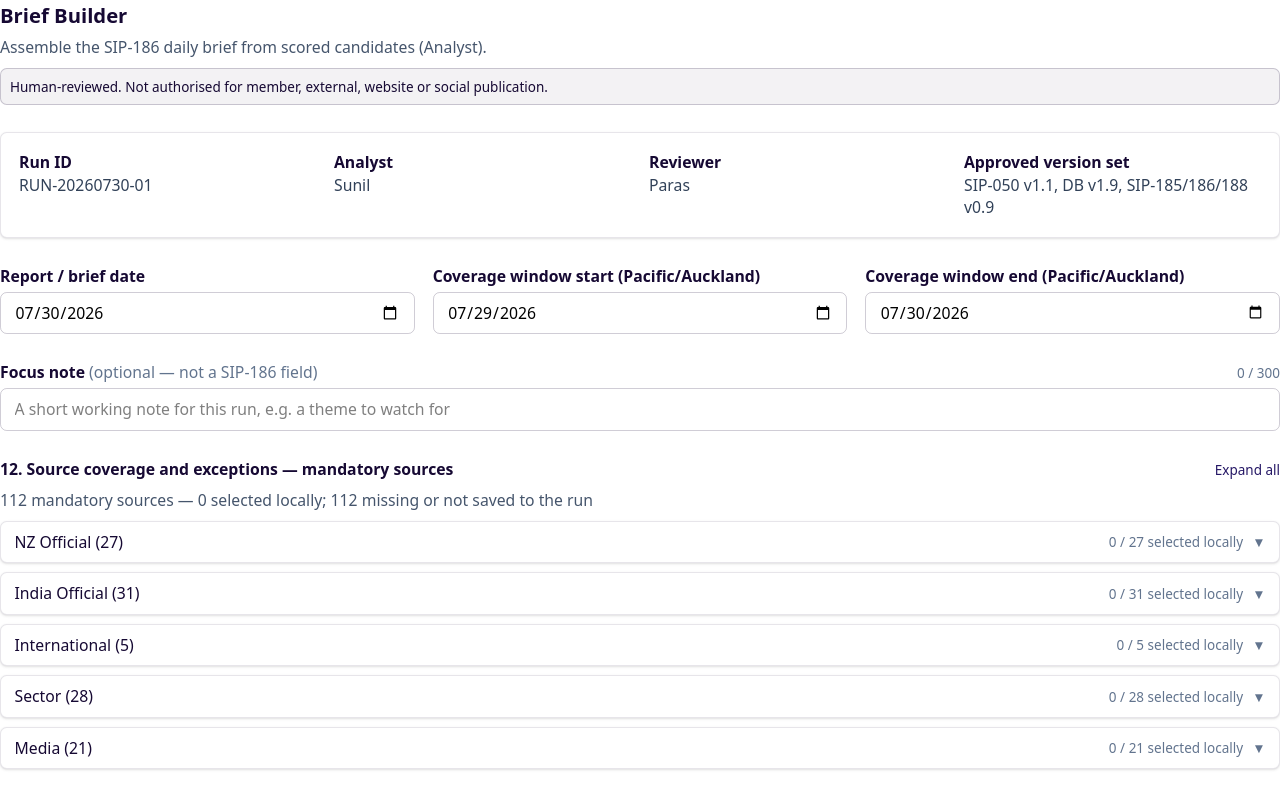
Test: BriefBuilderScreen candidate source › refuses unapproved fallback methods and does not POST
The width and height of the screenshot is (1280, 786).
Step 1. Click the button "NZ Official (27) 0 / 27 selected locally ▼" → click(53, 542), box x1=1 y1=522 x2=1279 y2=562
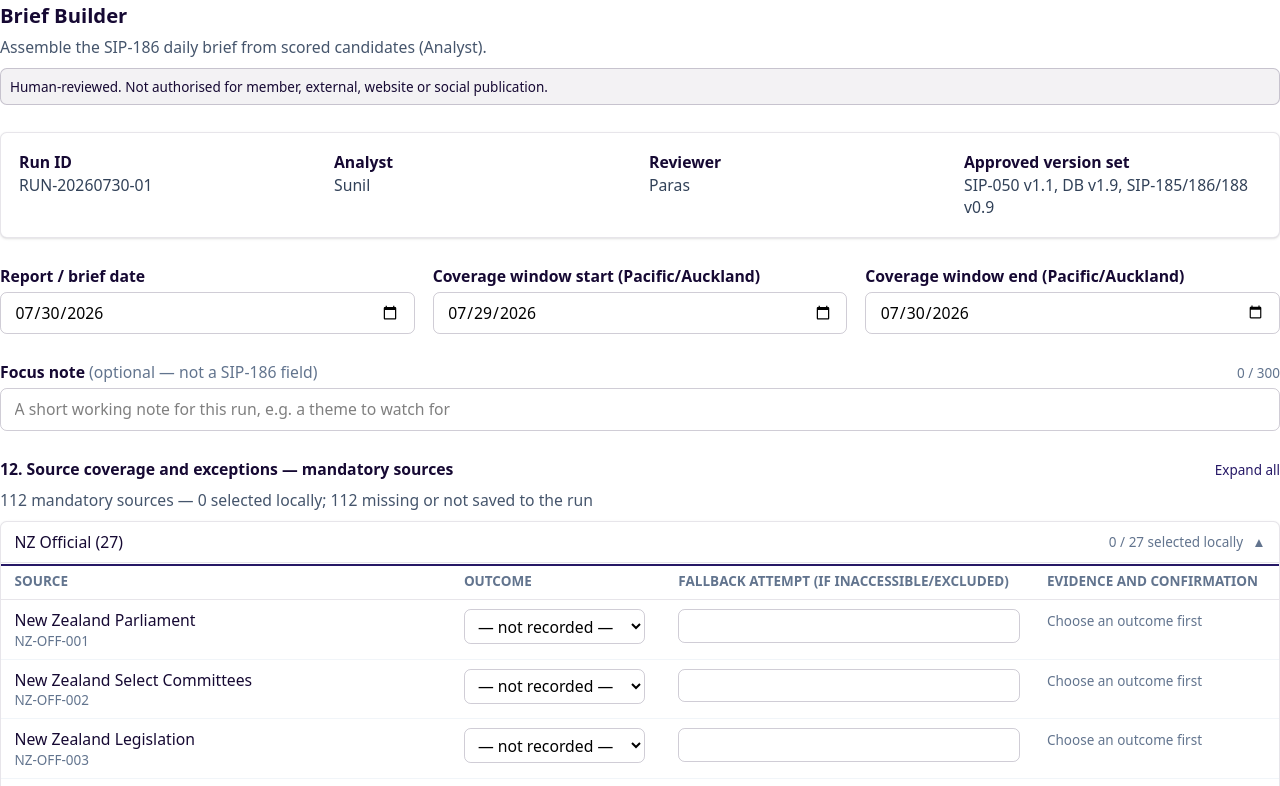
Step 2. Select "Inaccessible" in the dropdown in the row of "New Zealand Parliament" → (554, 627), box x1=464 y1=610 x2=645 y2=644
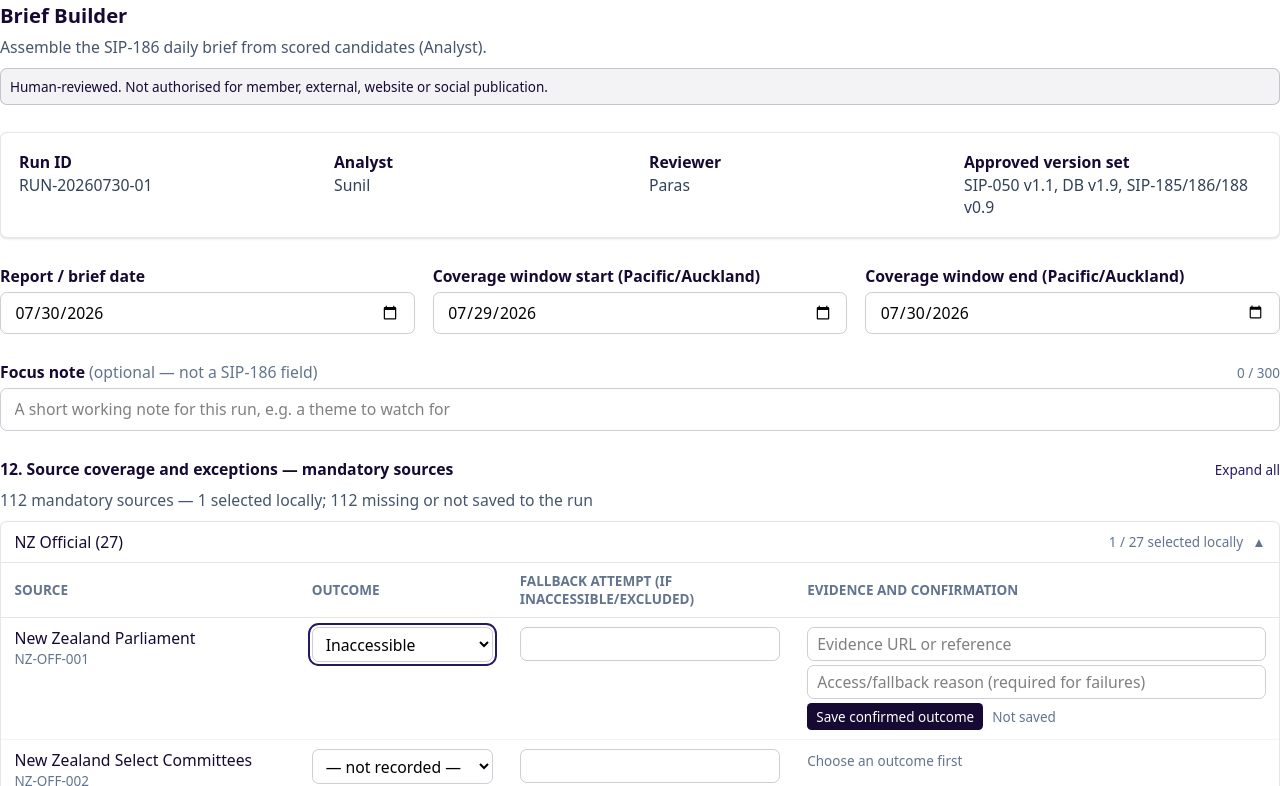
Step 3. Type "internal://test" into the field with placeholder "Evidence URL or reference" → (1036, 644), box x1=807 y1=628 x2=1266 y2=661
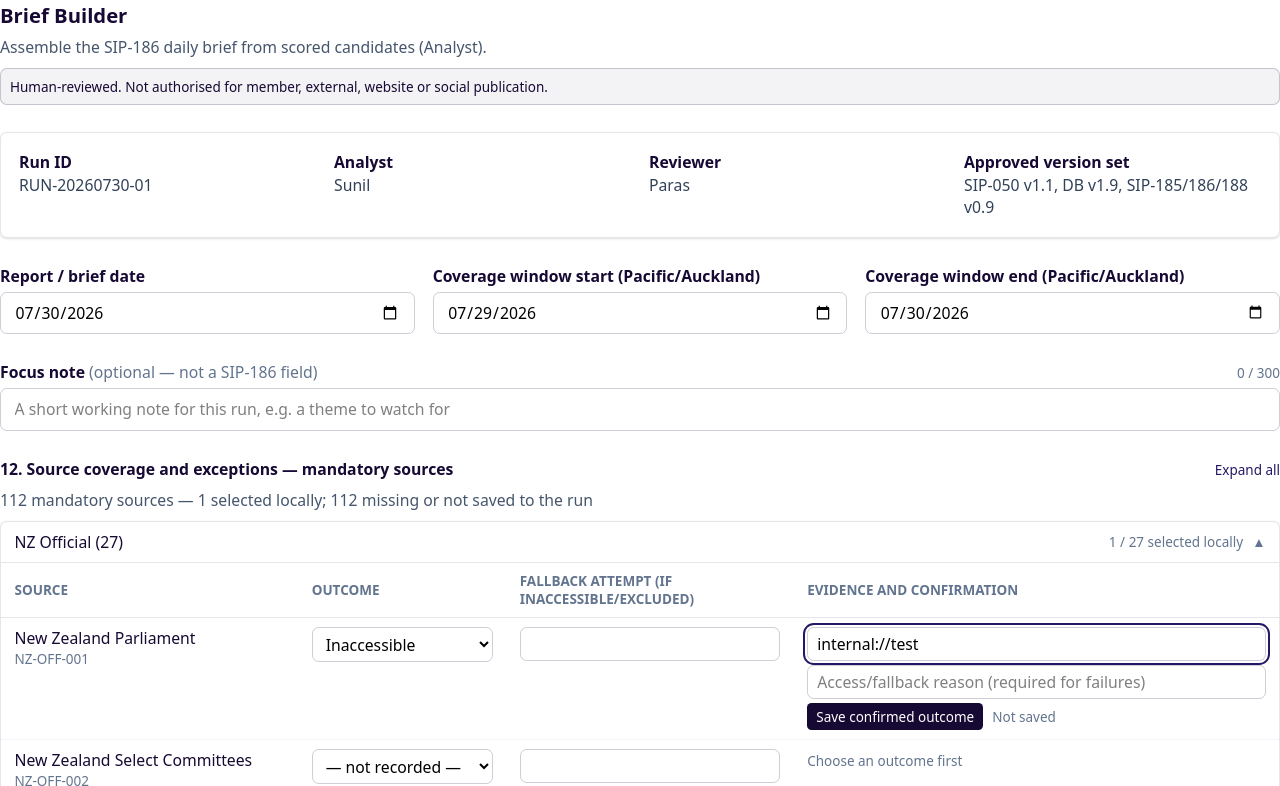
Step 4. Type "Request timed out" into the field with placeholder "Access/fallback reason (required for failures)" → (1036, 682), box x1=807 y1=666 x2=1266 y2=699
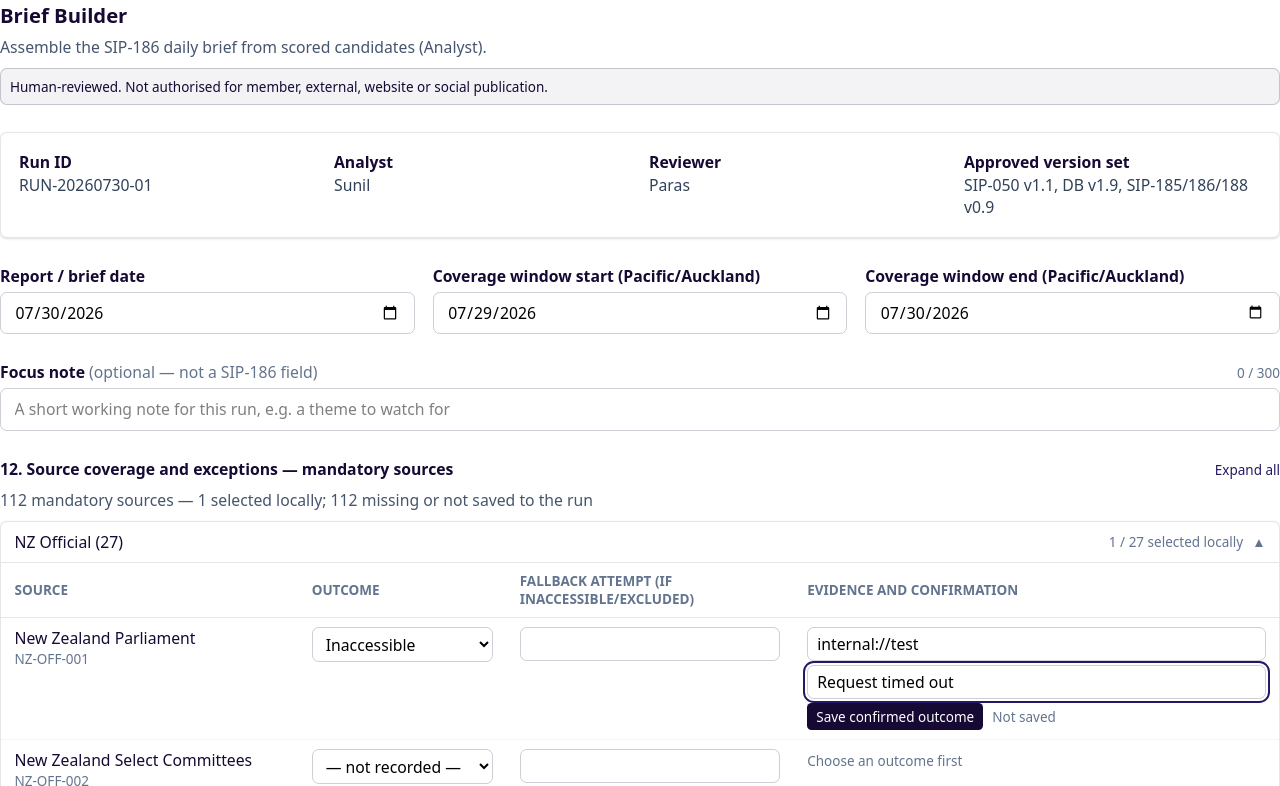
Step 5. Type "Unapproved scraper" into the 2nd field → (650, 644), box x1=520 y1=628 x2=780 y2=661
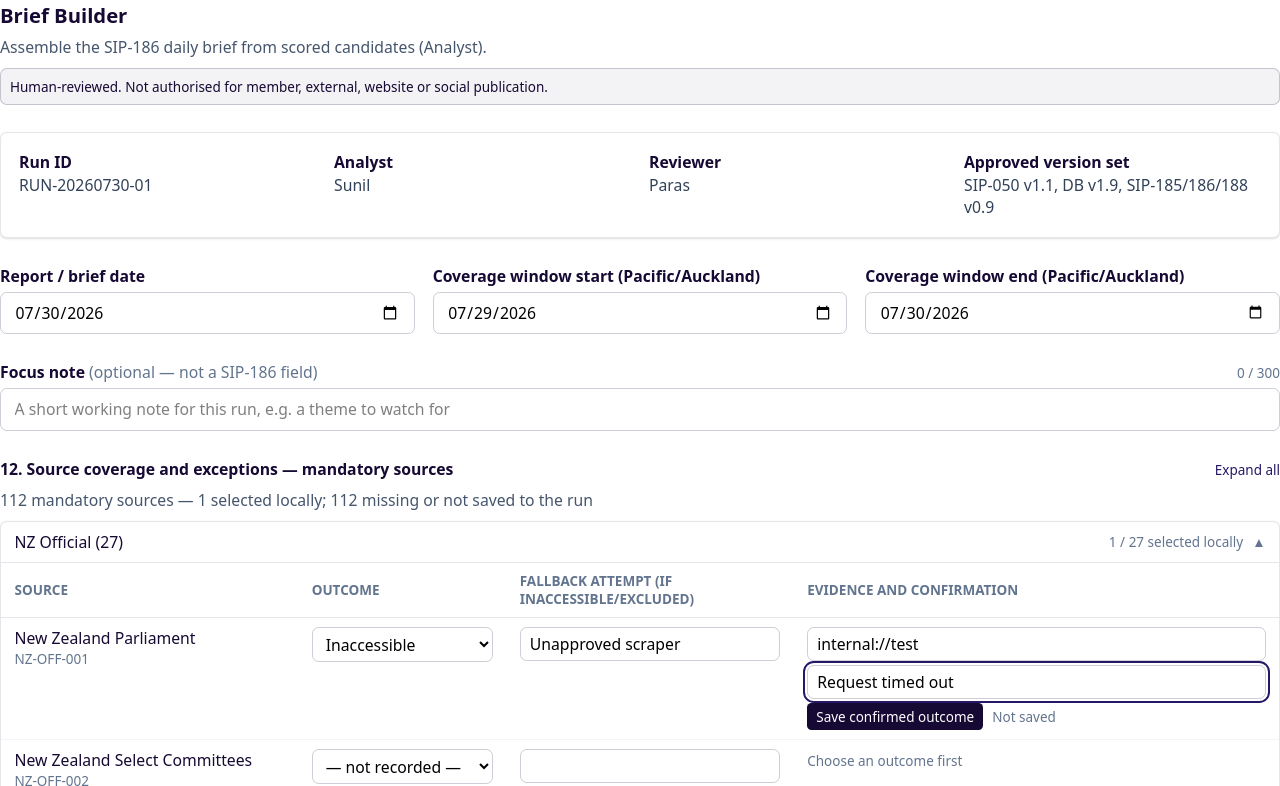
Result: the button "Save confirmed outcome" is enabled
Step 6. Click the button "Save confirmed outcome" → click(895, 717), box x1=807 y1=704 x2=983 y2=730
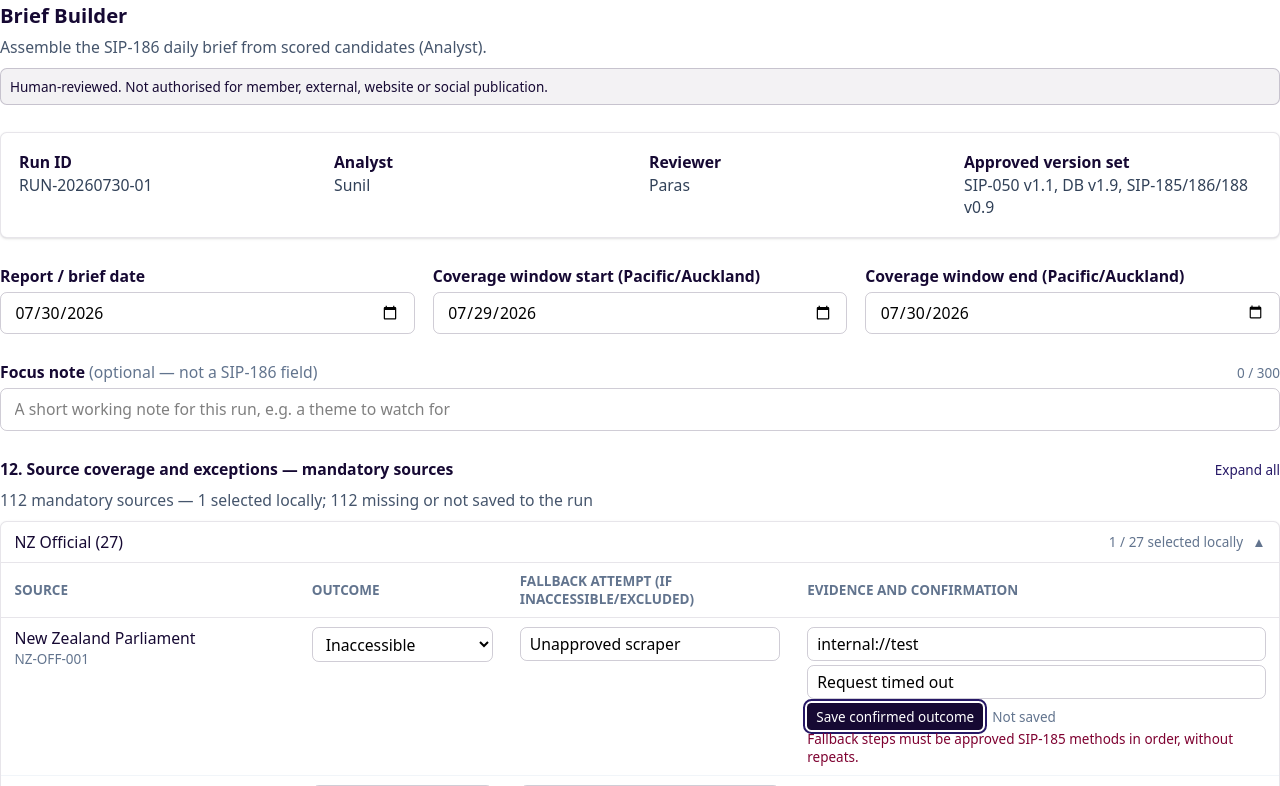
Result: the message shows "approved SIP-185 methods" at x1=807 y1=730 x2=1233 y2=766
